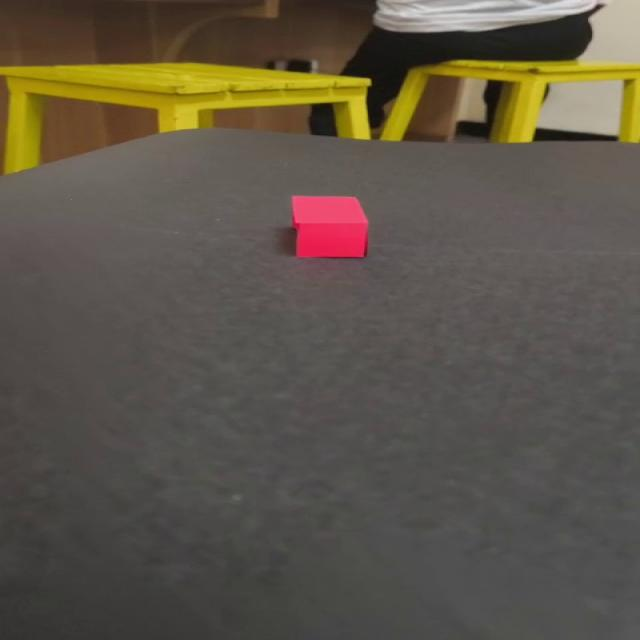red block: (289, 194, 368, 258)
